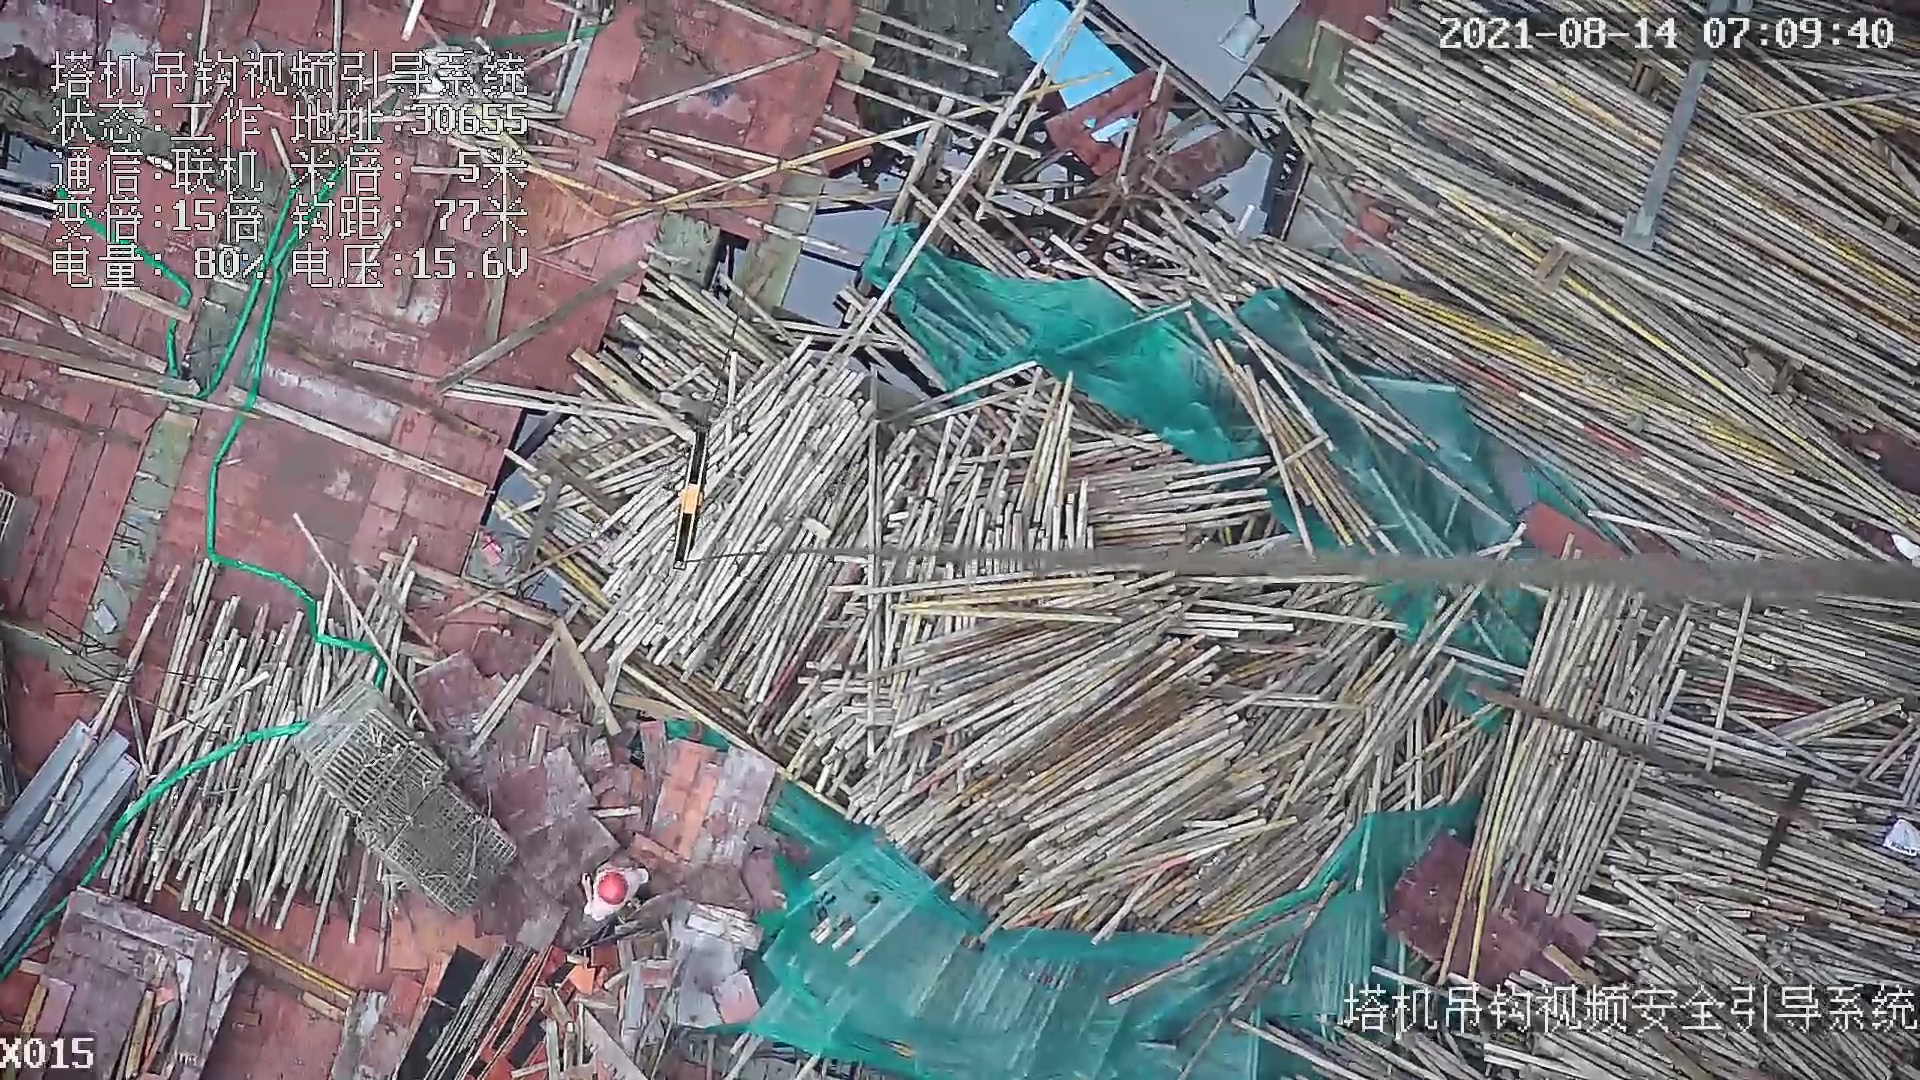helmet: (598, 872, 630, 906)
hook: (668, 427, 699, 580)
person: (578, 859, 649, 918)
